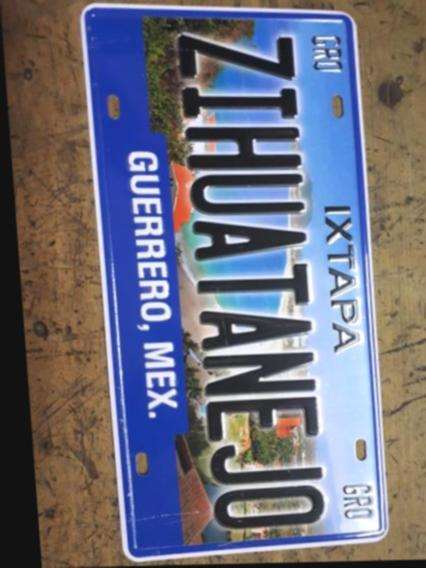License_Plate: (71, 0, 399, 554)
